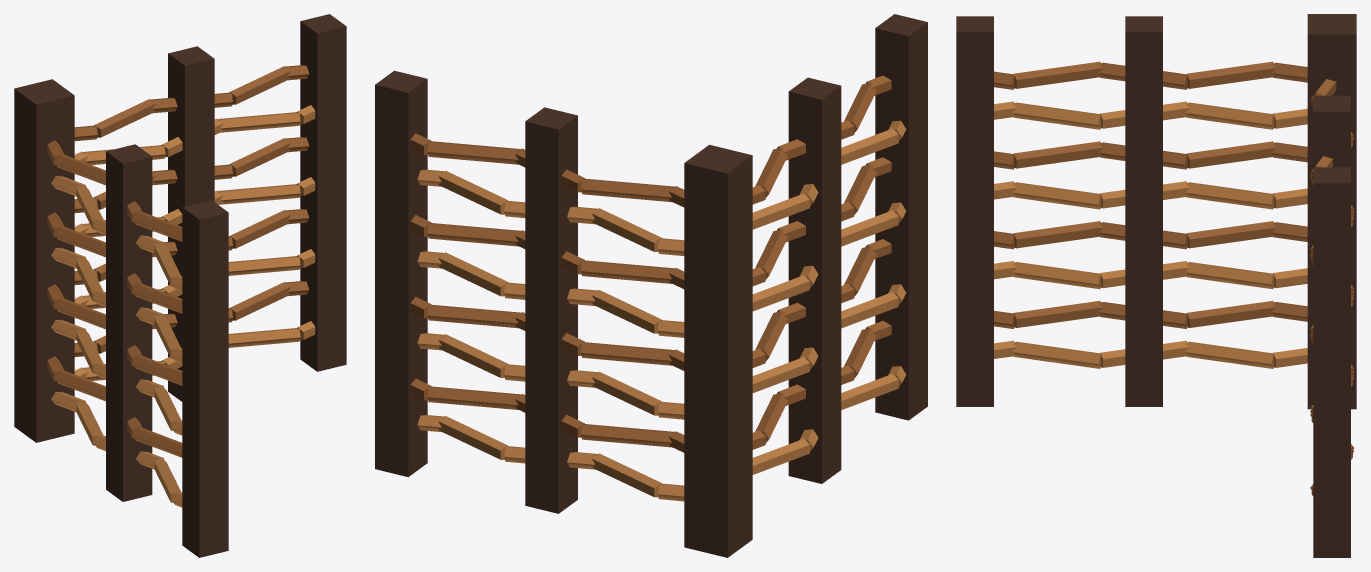
File: 336_wattle_fence_corner_l.fbx
3 views of the same model, side by side, from view 1: azimuth 30°, elevation 25°; view 2: azimuth 150°, elevation 25°; view 3: azimuth 270°, elevation 25° (orthographic). The views are drawn at different scales.
Parts seen in each view (by area): view 1: 336_wattle_fence_corner_l; view 2: 336_wattle_fence_corner_l; view 3: 336_wattle_fence_corner_l.
Boxes of the visible parts, x1,y1,x2,y2 form: 336_wattle_fence_corner_l: [14, 14, 346, 557]; 336_wattle_fence_corner_l: [375, 14, 927, 557]; 336_wattle_fence_corner_l: [956, 14, 1356, 557].
Size of the model in its own units: 1.06 by 1.1 by 1.06.
1 material, 1 textured.
